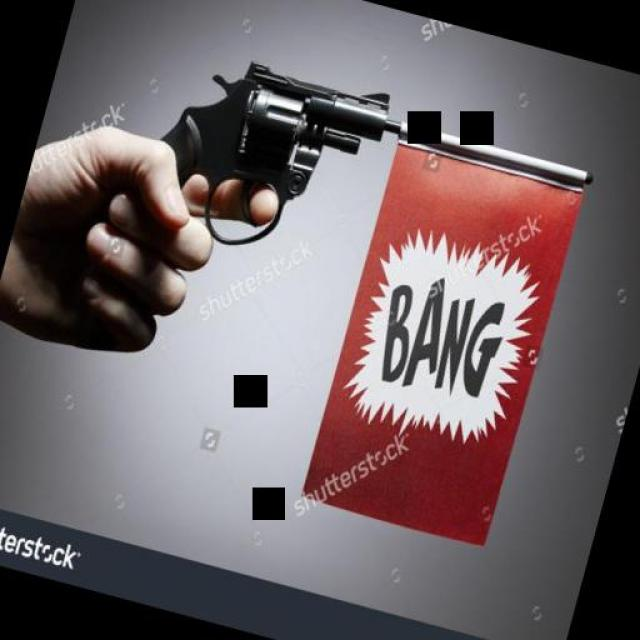gun: (108, 29, 390, 291)
